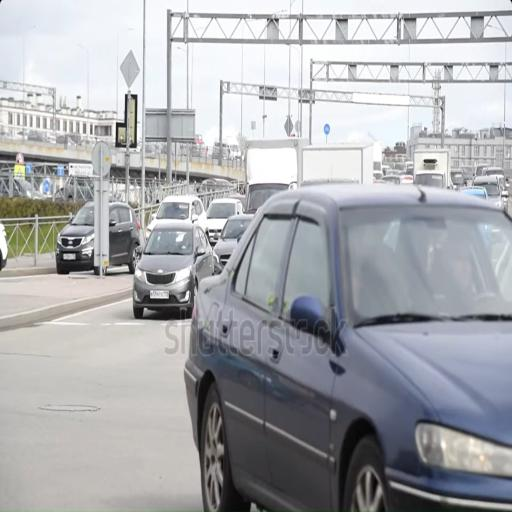License plates: (150, 291, 169, 299), (63, 253, 75, 260), (210, 235, 217, 240), (214, 234, 218, 239)
